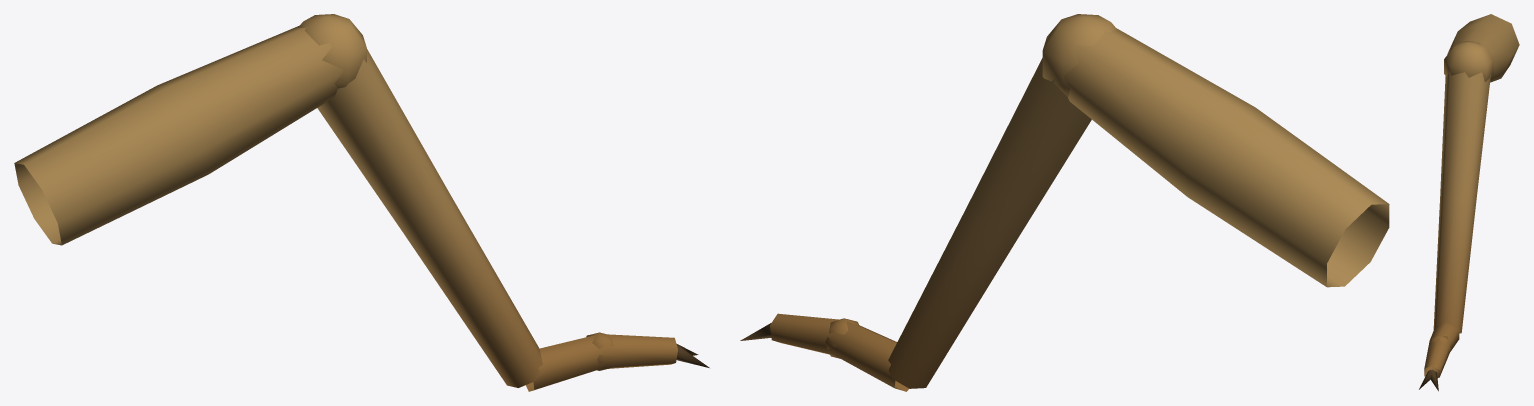
Rendered from Hasamimushi_Leg2.fbx.
The picture shows the model from 3 angles, left to right: view 1: azimuth 30°, elevation 25°; view 2: azimuth 150°, elevation 25°; view 3: azimuth 270°, elevation 25°; orthographic projection. The views are drawn at different scales.
Visible parts, largest first — view 1: Hasamimushi_Leg2; view 2: Hasamimushi_Leg2; view 3: Hasamimushi_Leg2.
Part boxes in pixels (bbox=[...]): Hasamimushi_Leg2: bbox=[14, 14, 709, 391]; Hasamimushi_Leg2: bbox=[740, 14, 1389, 391]; Hasamimushi_Leg2: bbox=[1419, 14, 1519, 391].
Bounding box in the file's own units: 0.209 × 0.1287 × 0.0477.
